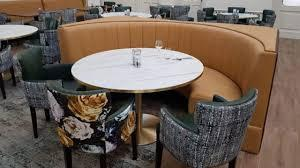Clean Table: (65, 38, 212, 101)
